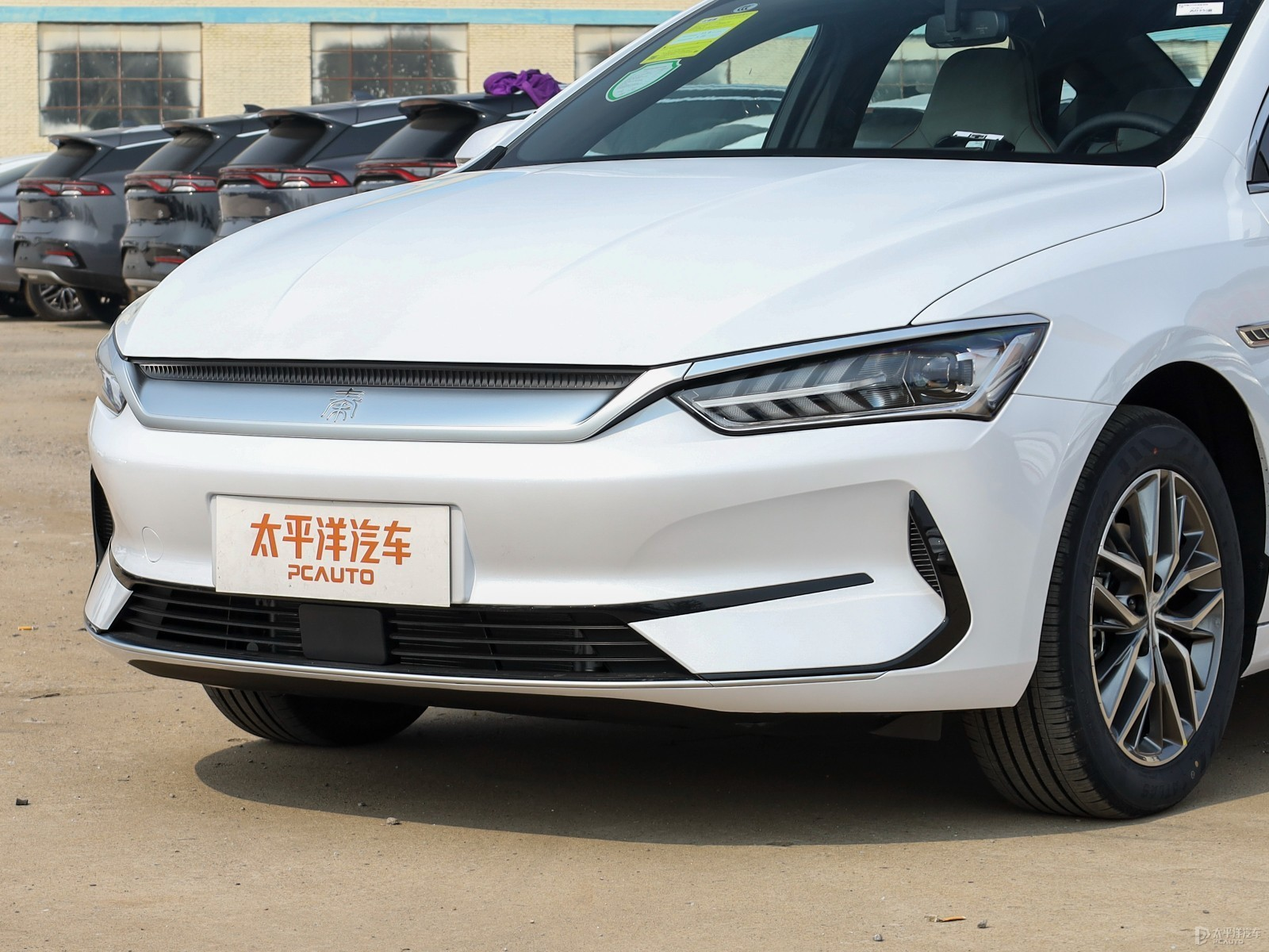BYD Qin: (321, 389, 364, 421)
